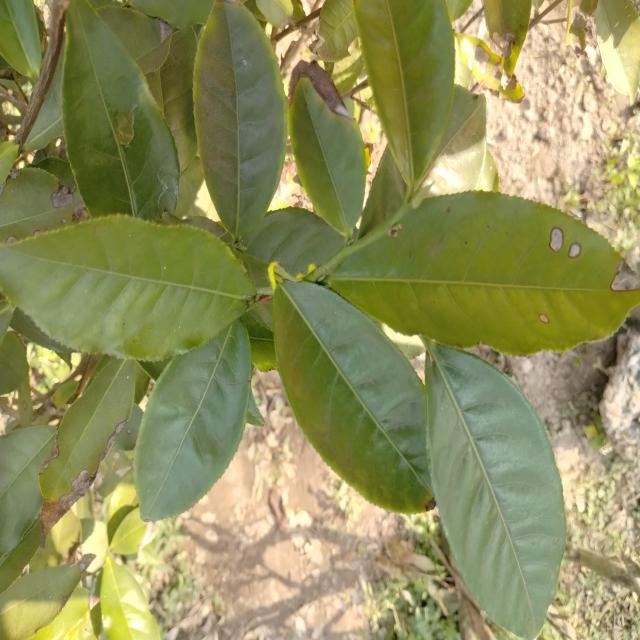Leaf: (325, 192, 640, 355), (425, 340, 566, 640), (0, 215, 254, 360), (274, 281, 432, 513), (0, 40, 152, 264), (62, 0, 179, 219), (134, 321, 252, 520), (194, 0, 286, 240), (352, 0, 455, 191), (40, 358, 135, 534), (288, 60, 366, 238), (417, 85, 486, 203), (0, 425, 56, 559), (242, 207, 346, 275), (0, 563, 84, 640), (0, 168, 84, 244), (100, 556, 160, 640), (97, 7, 172, 74), (594, 0, 640, 103), (456, 33, 524, 102), (24, 44, 64, 150), (360, 145, 406, 237), (31, 587, 102, 640), (483, 0, 532, 76), (29, 510, 82, 573), (0, 0, 41, 79), (317, 0, 357, 62), (105, 470, 138, 542), (110, 507, 157, 555), (0, 332, 29, 395), (256, 0, 293, 28)
